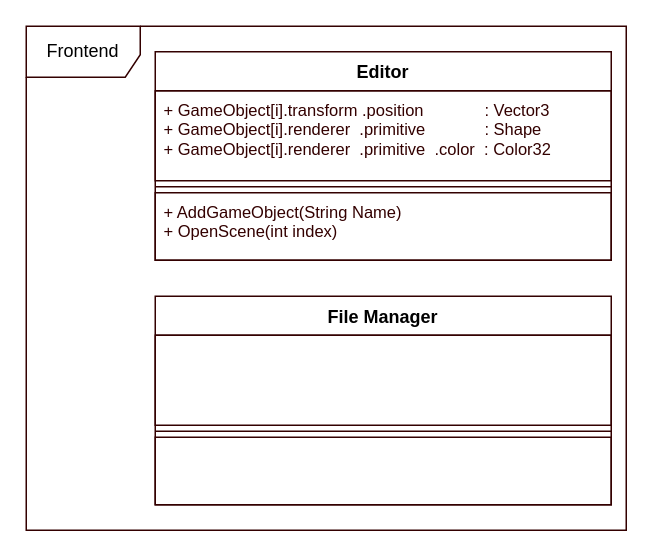
Some shapes in this 653 by 557 pixel diagram are drawn without their labels. The shapes that lost their labels are listed below. From the top down, each one's box as (x1, y1, x2, y2) in pixels, then its label:
(154, 334, 611, 425): + Project : Path + SceneManager : Path + TemplateProject : Path
(154, 436, 611, 505): + AddGameObject(gameobject& go) + CreateScene(scene& scene)
